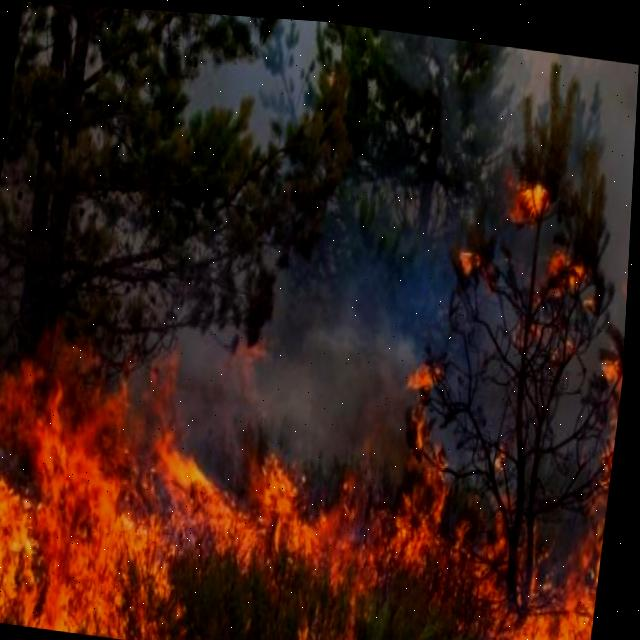fire: (0, 331, 628, 640)
smoke: (179, 177, 453, 504), (392, 25, 639, 315), (435, 215, 612, 550), (191, 15, 323, 153), (0, 168, 33, 370)
